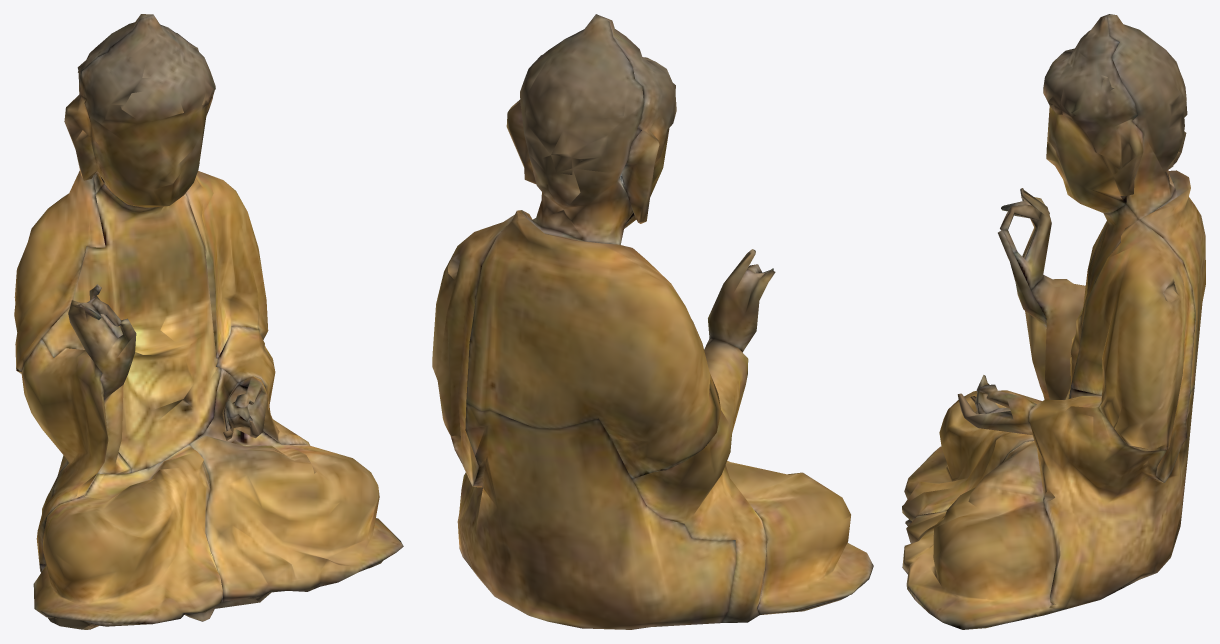
File: village-buddha-preview.glb
3 views of the same model, side by side, from view 1: azimuth 30°, elevation 25°; view 2: azimuth 150°, elevation 25°; view 3: azimuth 270°, elevation 25° (orthographic). The views are drawn at different scales.
Visible parts, largest first — view 1: NMK_Goryeo_Amitabha_duk002116_002; view 2: NMK_Goryeo_Amitabha_duk002116_002; view 3: NMK_Goryeo_Amitabha_duk002116_002.
Part boxes in pixels (bbox=[...]): NMK_Goryeo_Amitabha_duk002116_002: bbox=[14, 14, 403, 629]; NMK_Goryeo_Amitabha_duk002116_002: bbox=[432, 14, 873, 629]; NMK_Goryeo_Amitabha_duk002116_002: bbox=[902, 14, 1205, 629].
Size of the model in its own units: 0.7006 by 0.9966 by 0.5183.
Materials: 1 (1 with a texture image).
